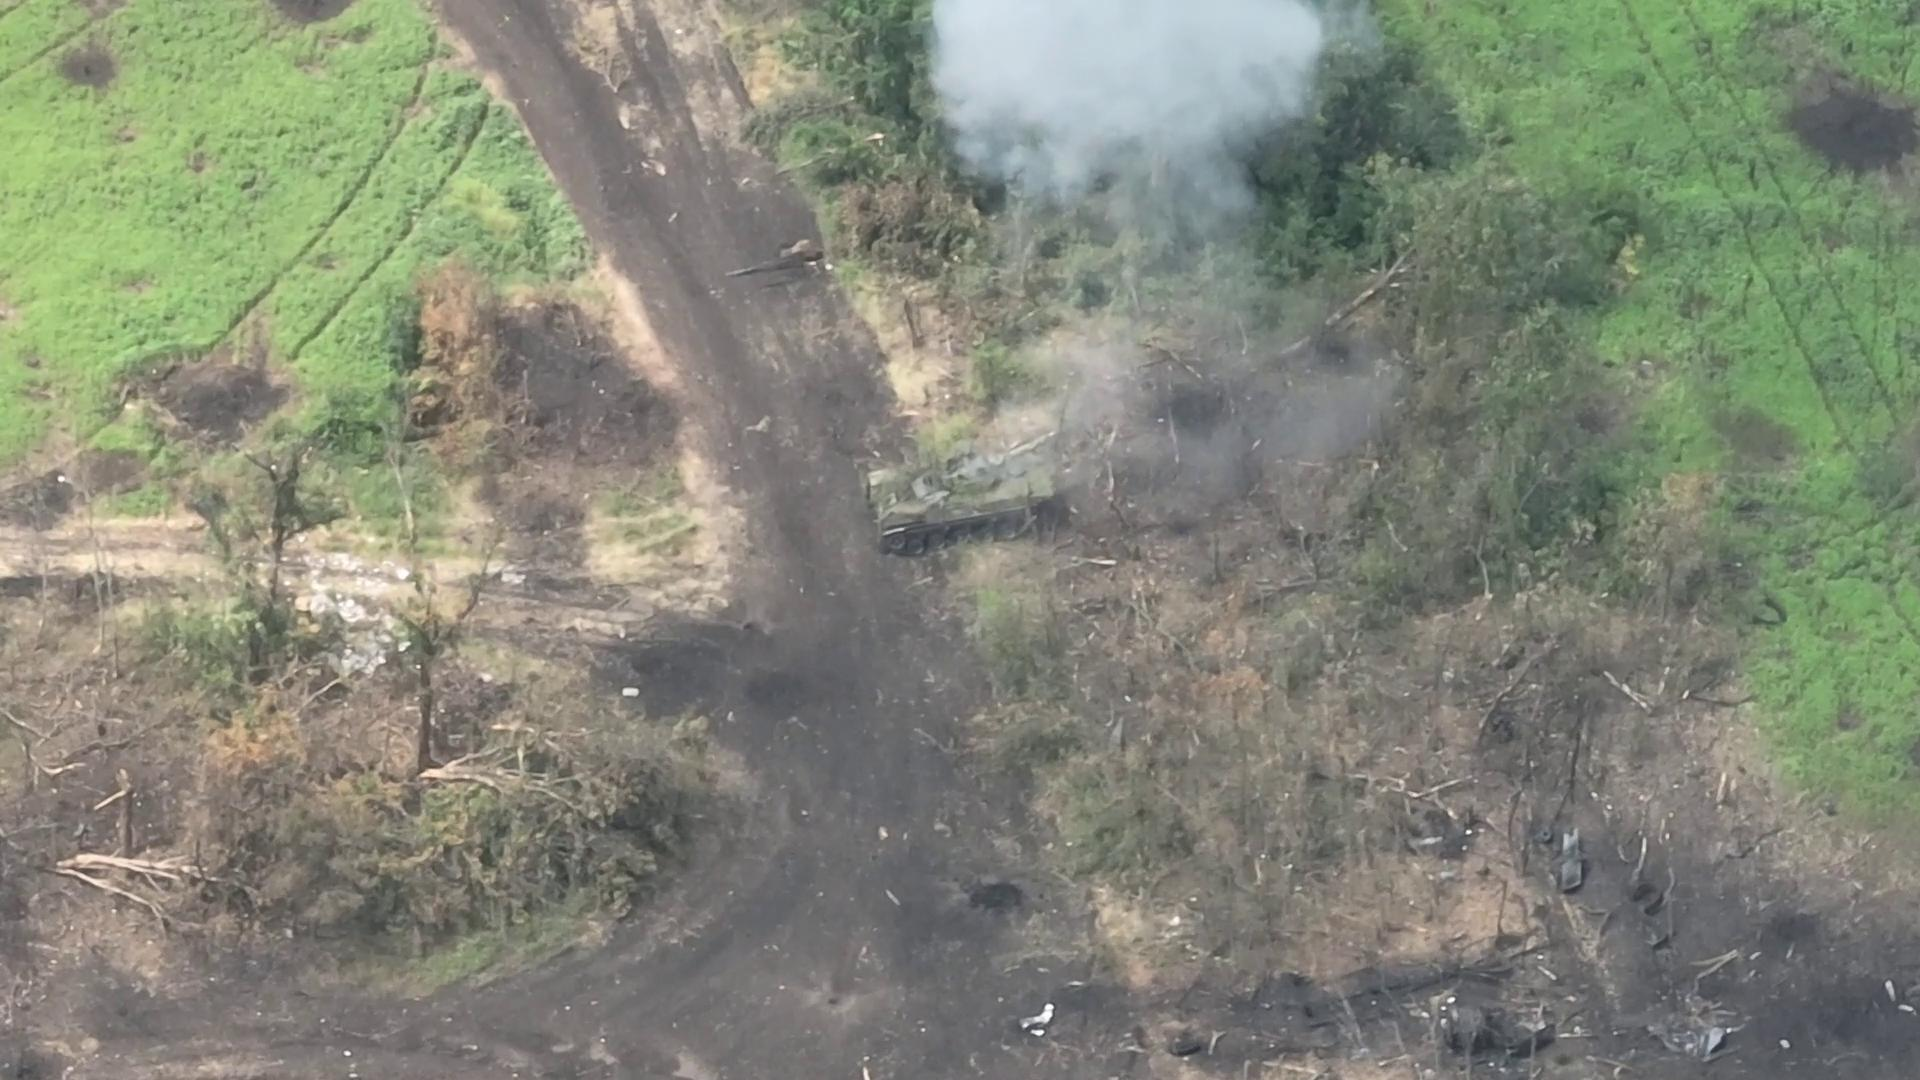tank: (860, 427, 1069, 560)
